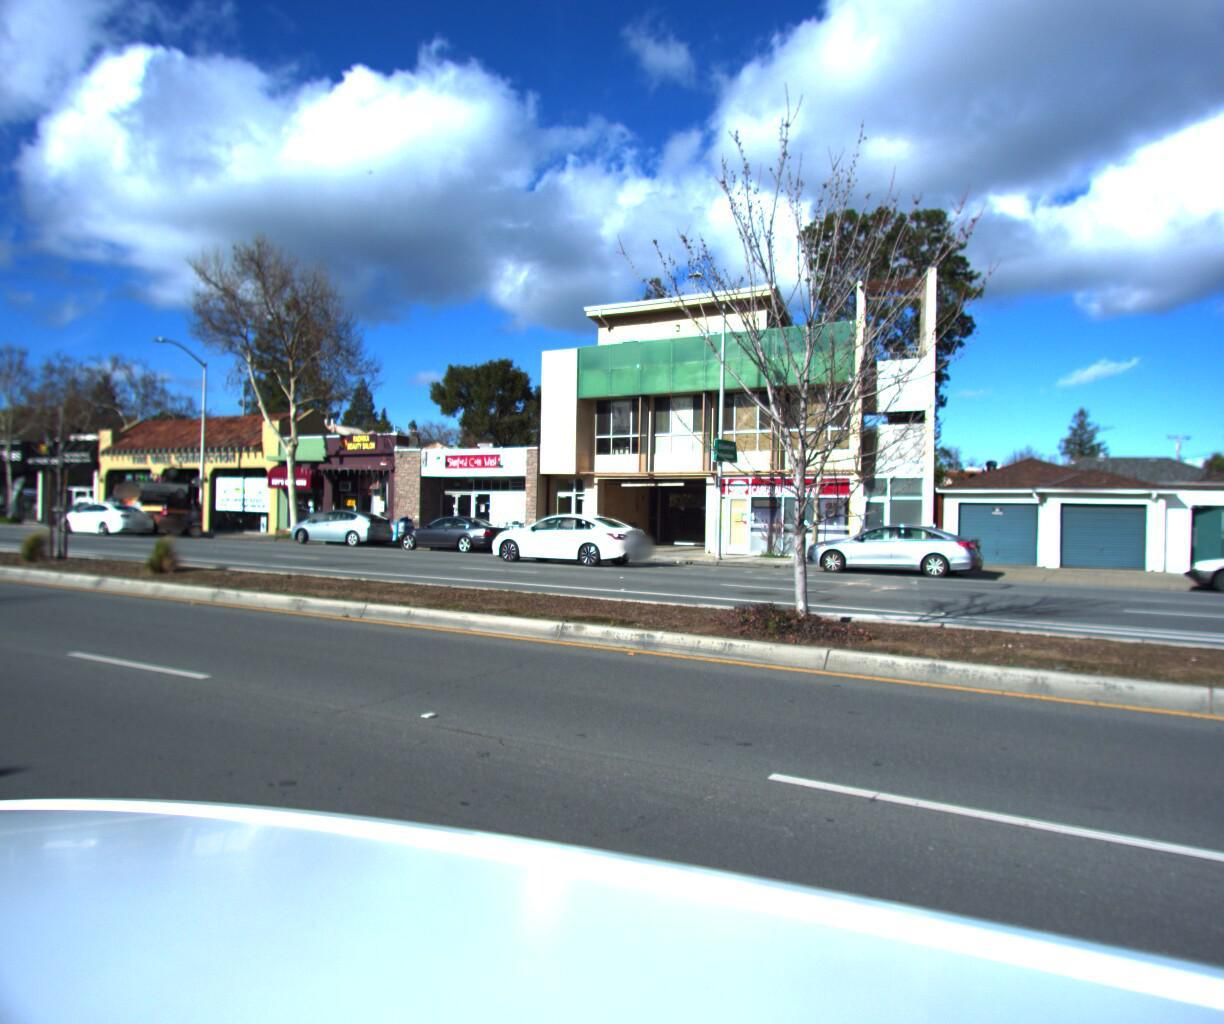car: (798, 521, 987, 581), (484, 513, 662, 568), (97, 473, 207, 537), (391, 516, 515, 557), (281, 508, 397, 549), (54, 498, 160, 539), (1176, 534, 1224, 607)
